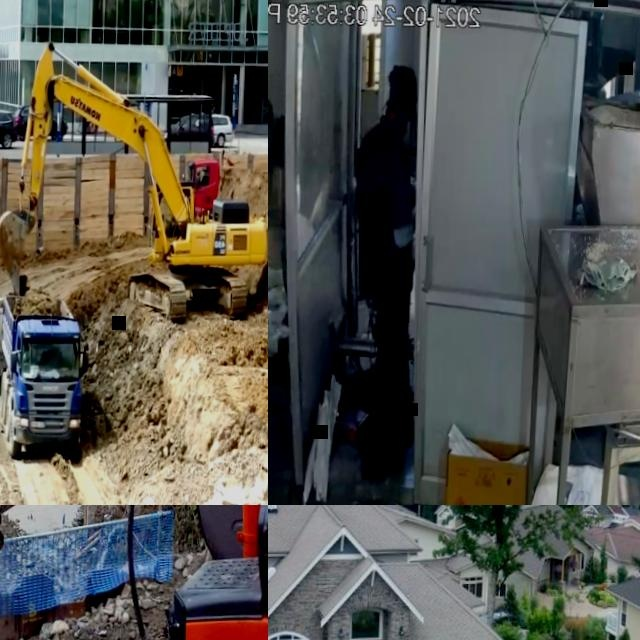Hardhat: (387, 62, 417, 107)
Mask: (399, 121, 407, 140)
NO-Safety Vest: (354, 134, 406, 296), (268, 112, 286, 220)
Person: (343, 61, 428, 481), (268, 100, 291, 327), (22, 347, 34, 365)
Safety Vest: (23, 351, 29, 364)
machinery: (0, 39, 268, 330), (0, 505, 268, 640), (0, 272, 93, 463), (180, 158, 221, 219)
vehicle: (161, 112, 214, 155), (13, 104, 68, 143), (194, 114, 235, 149), (0, 107, 18, 151)
